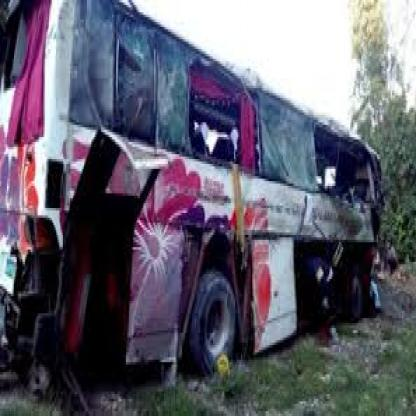accident: (12, 1, 388, 364)
